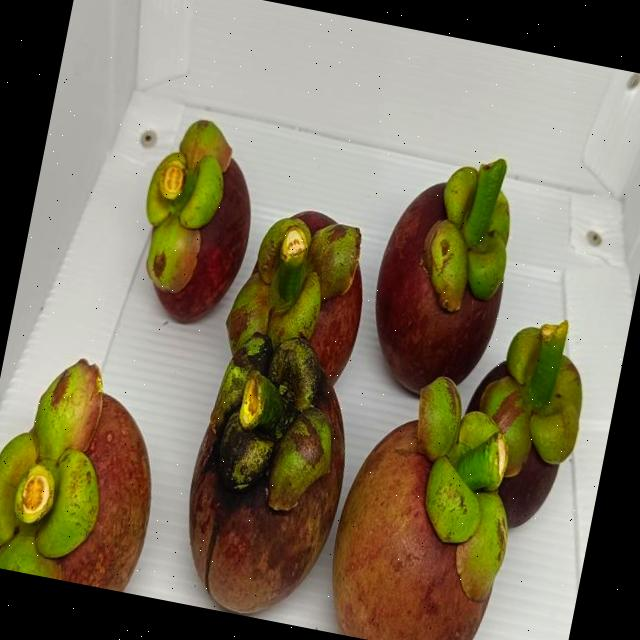mangosteen: (125, 300, 402, 622), (310, 349, 565, 640), (345, 116, 573, 410), (206, 170, 433, 418), (0, 358, 201, 599), (85, 92, 278, 314), (438, 274, 608, 512)
